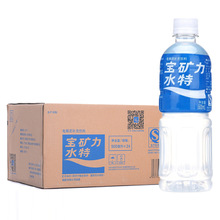POCARI SWEAT: (156, 17, 215, 194)
